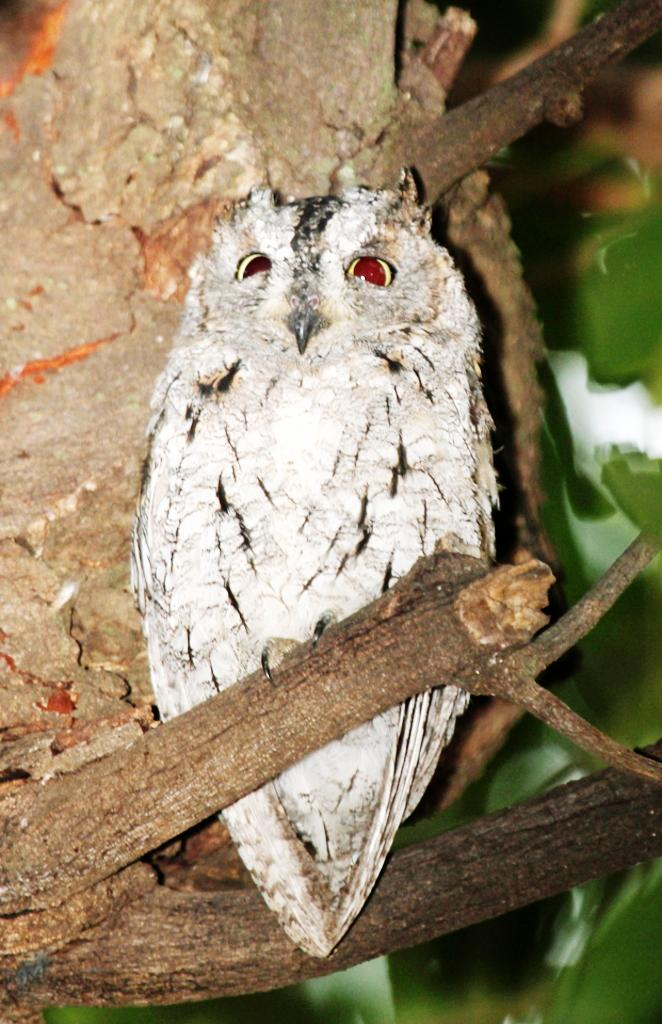Owl: (125, 160, 502, 967)
